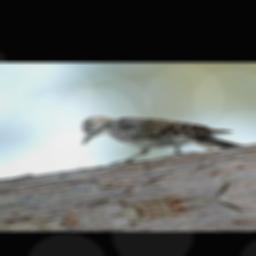Woodpecker: (69, 95, 250, 176)
